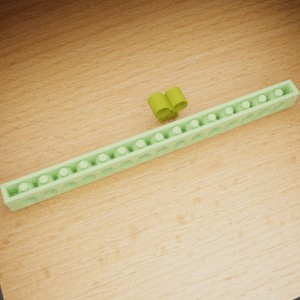lego: (0, 79, 299, 212), (147, 86, 188, 123)
